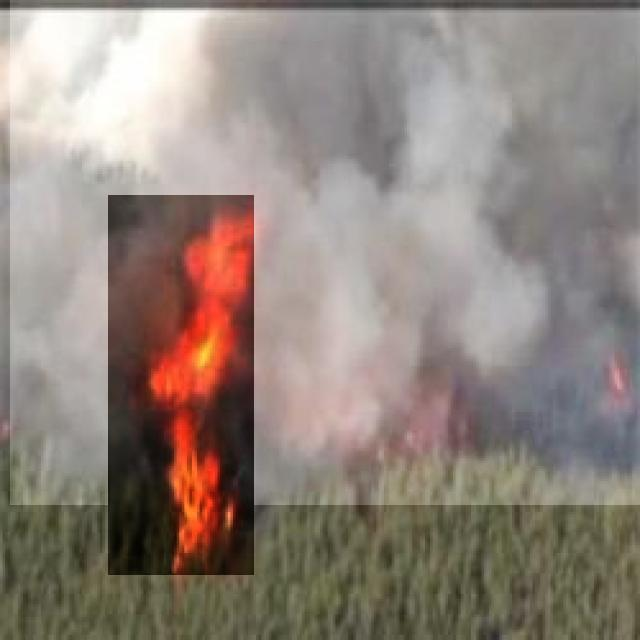Fire: (108, 195, 254, 575)
Smoke: (10, 0, 640, 505)
